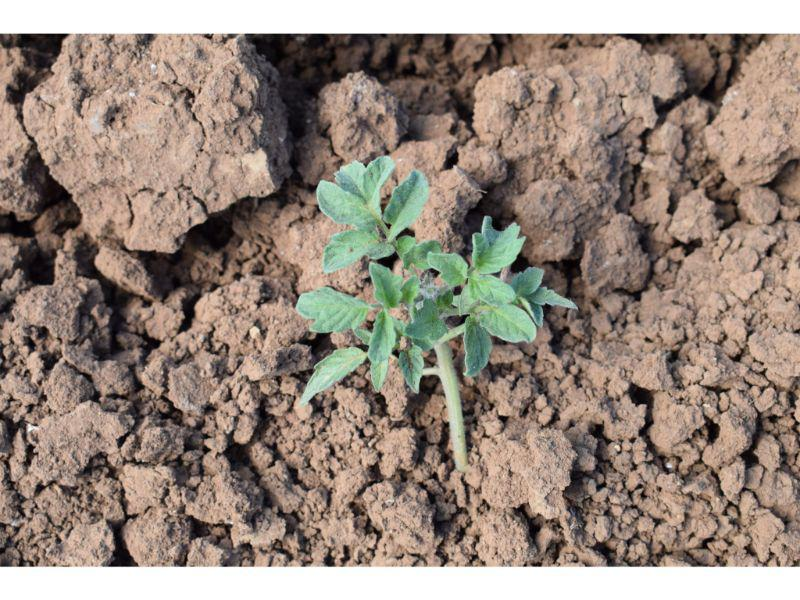tomato: (293, 158, 584, 408)
